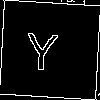Y: (25, 24, 60, 71)
